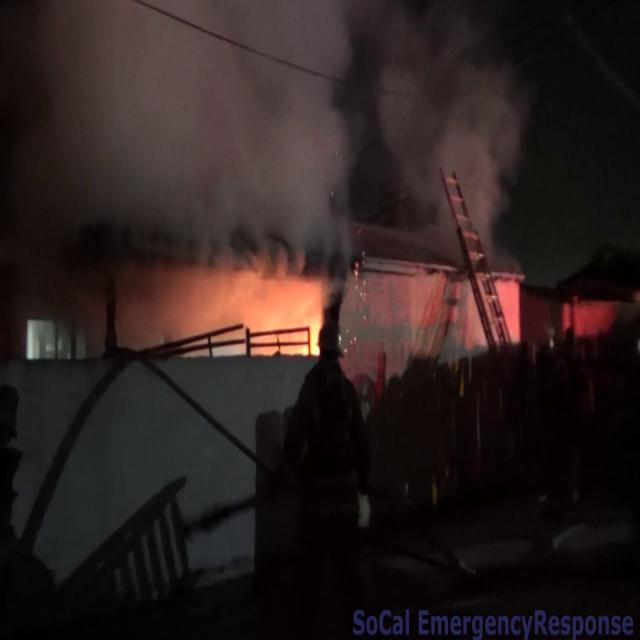Smoke: (2, 1, 544, 262)
